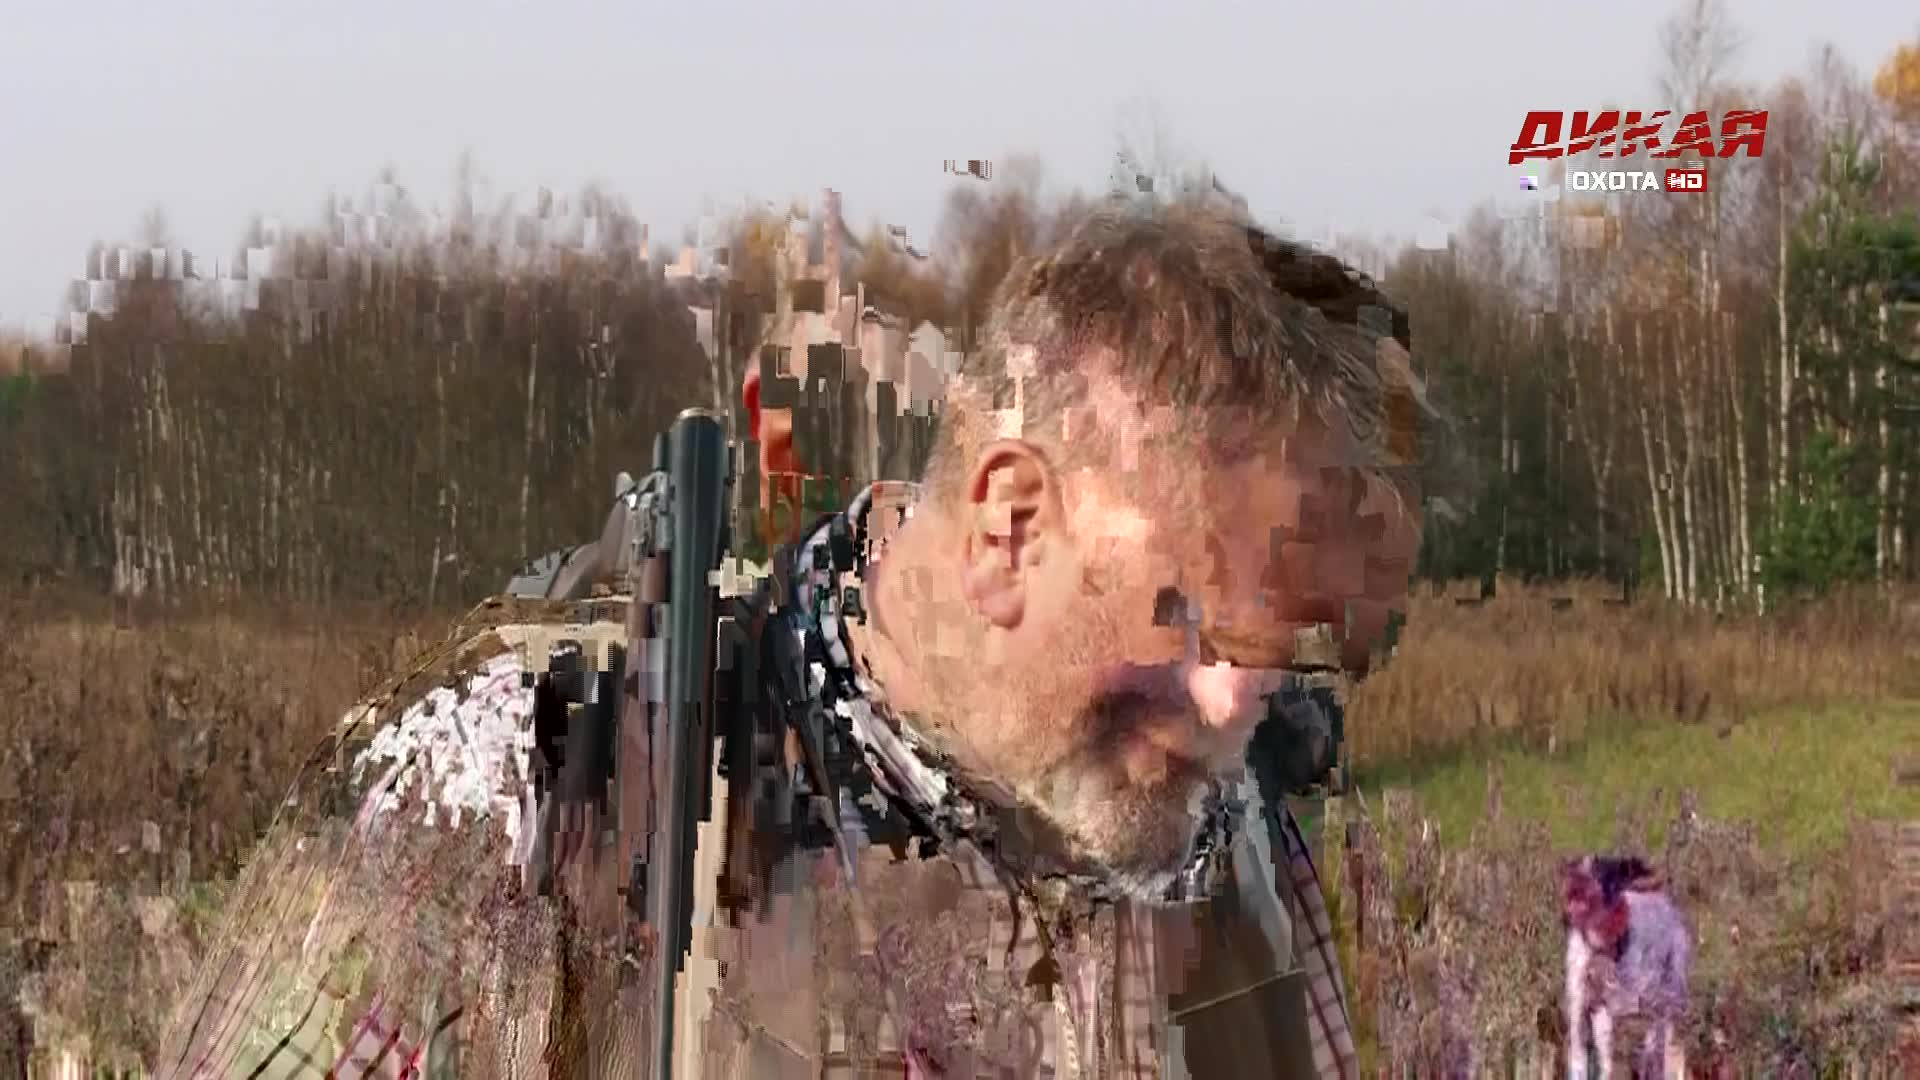Dikaya_Ohota_HD: (1506, 109, 1774, 196)
